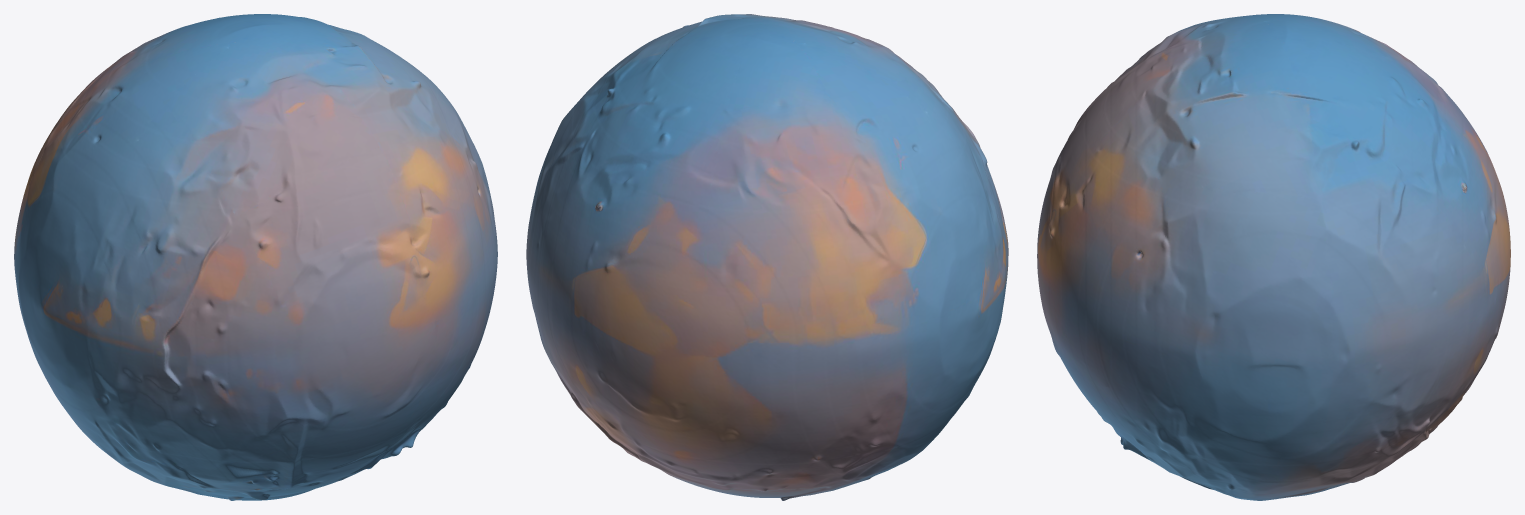
File: detailed_realistic_model_crystalball_11.glb
The picture shows the model from 3 angles, left to right: view 1: azimuth 30°, elevation 25°; view 2: azimuth 150°, elevation 25°; view 3: azimuth 270°, elevation 25°; orthographic projection.
Parts seen in each view (by area): view 1: tripo_node_0099cdbf-3890-4785-9eb5-5497fbb2ecee; view 2: tripo_node_0099cdbf-3890-4785-9eb5-5497fbb2ecee; view 3: tripo_node_0099cdbf-3890-4785-9eb5-5497fbb2ecee.
Boxes of the visible parts, bbox=[...] form: tripo_node_0099cdbf-3890-4785-9eb5-5497fbb2ecee: bbox=[14, 14, 497, 500]; tripo_node_0099cdbf-3890-4785-9eb5-5497fbb2ecee: bbox=[526, 14, 1008, 500]; tripo_node_0099cdbf-3890-4785-9eb5-5497fbb2ecee: bbox=[1037, 14, 1510, 500].
Size of the model in its own units: 0.9996 by 1 by 0.9733.
Materials: 1 (1 with a texture image).
